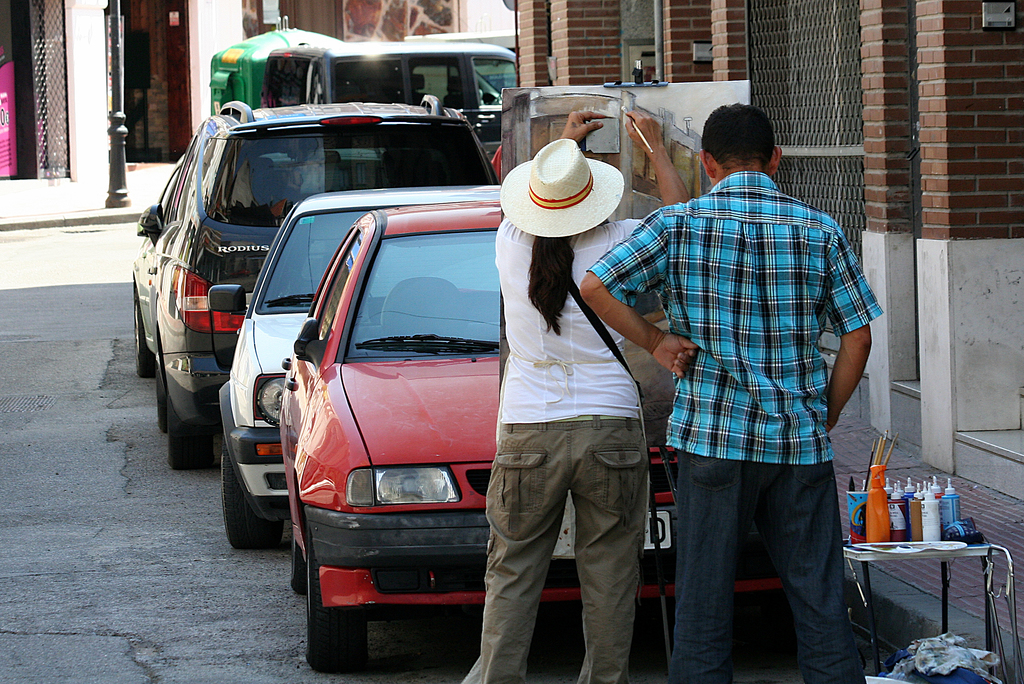Car: (126, 89, 499, 473), (213, 188, 502, 545)
